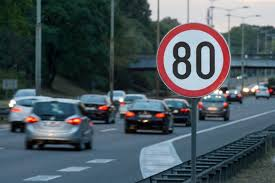Speed_limit_80km: (155, 23, 231, 98)
